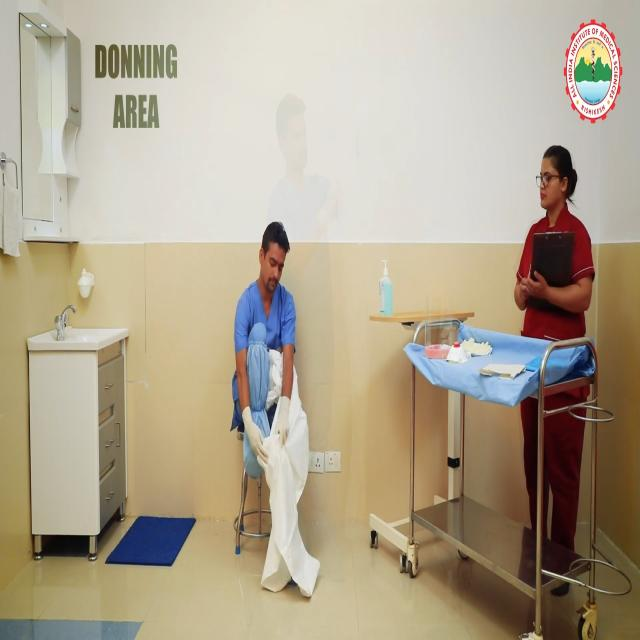Gloves: (237, 402, 275, 470), (276, 397, 293, 447)
